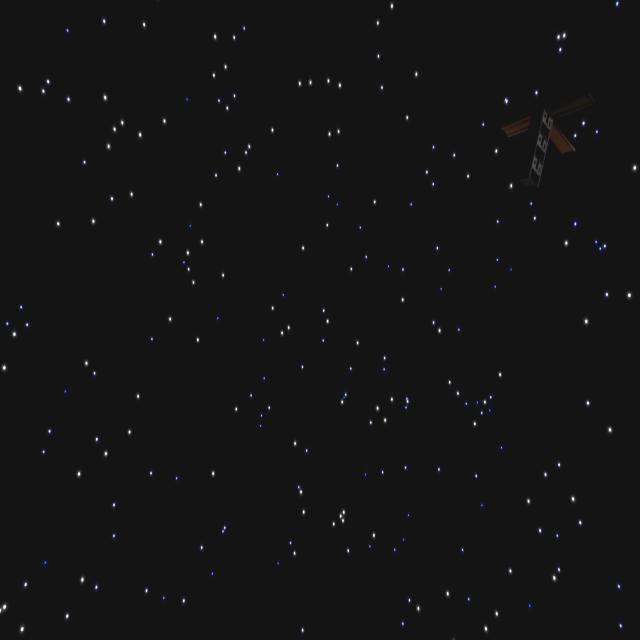medium_debris: (487, 108, 578, 186)
